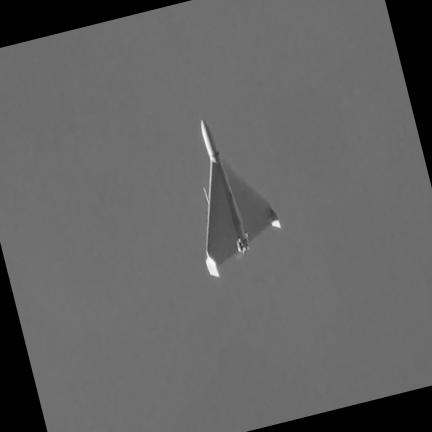Shahed: (200, 120, 280, 277)
